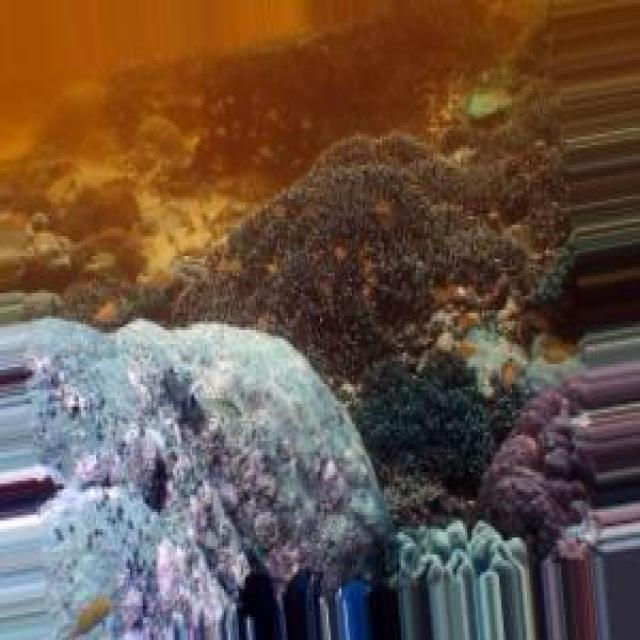Bleached: (20, 320, 398, 640)
Healthy: (99, 86, 573, 391), (349, 365, 551, 530), (477, 391, 600, 564)
